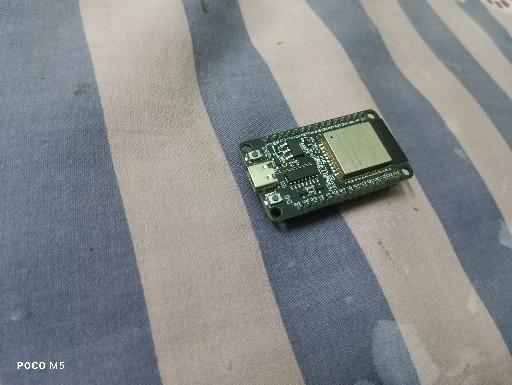Esp32: (238, 108, 414, 223)
